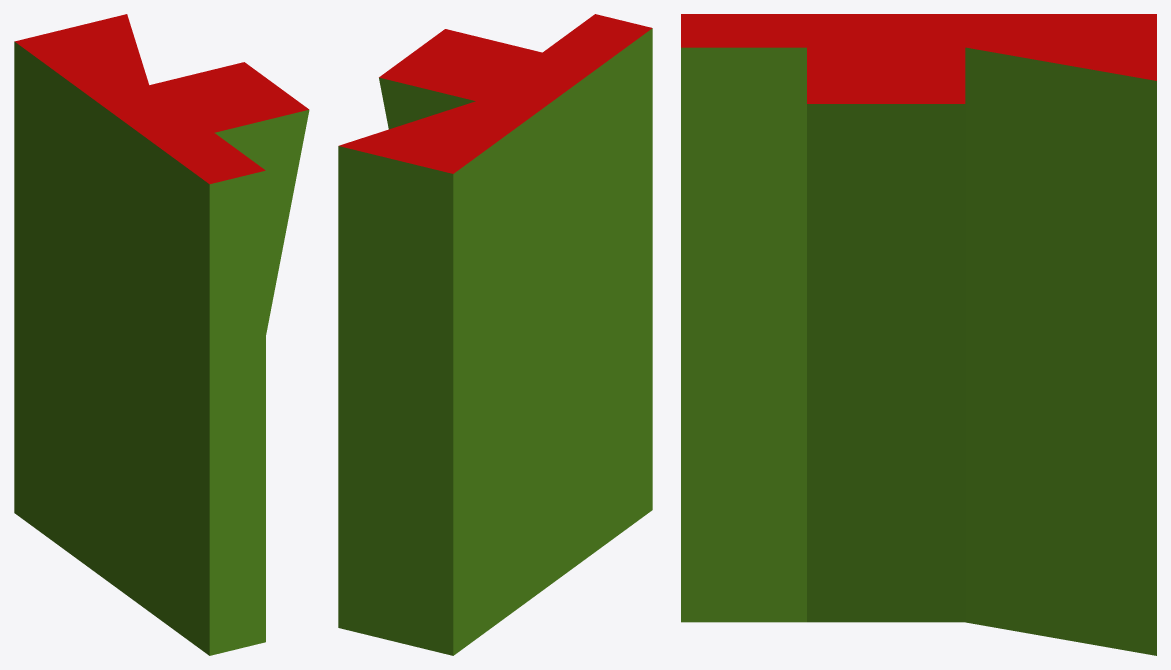
Rendered from x_skala_crash_secret_door_1.fbx.
3 views of the same model, side by side, from view 1: azimuth 30°, elevation 25°; view 2: azimuth 150°, elevation 25°; view 3: azimuth 270°, elevation 25° (orthographic). The views are drawn at different scales.
Parts seen in each view (by area): view 1: x_skala_crash_secret_door_1_1; view 2: x_skala_crash_secret_door_1_1; view 3: x_skala_crash_secret_door_1_1.
Part boxes in pixels (left/top/right/bottom): x_skala_crash_secret_door_1_1: left=14, top=14, right=309, bottom=655; x_skala_crash_secret_door_1_1: left=338, top=14, right=652, bottom=655; x_skala_crash_secret_door_1_1: left=681, top=14, right=1156, bottom=655.
Size of the model in its own units: 1.34 by 4 by 3.
